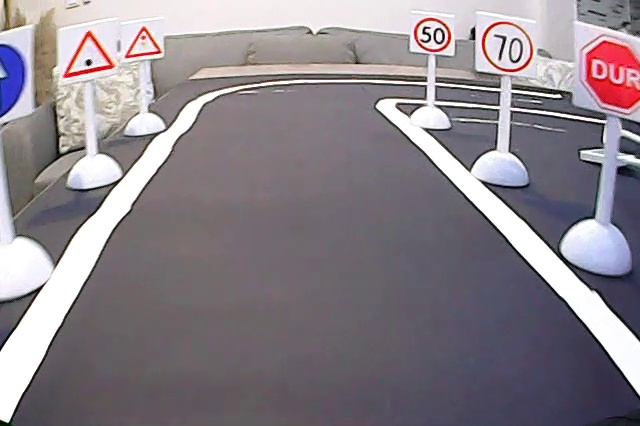green light: (57, 29, 117, 79)
red light: (118, 24, 165, 62)
speed limit 50: (410, 13, 455, 54)
speed limit 70: (478, 15, 538, 77)
stop sign: (578, 24, 640, 120)
